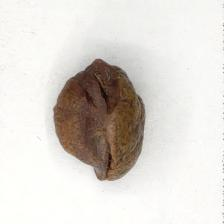NG: (56, 60, 117, 180)
